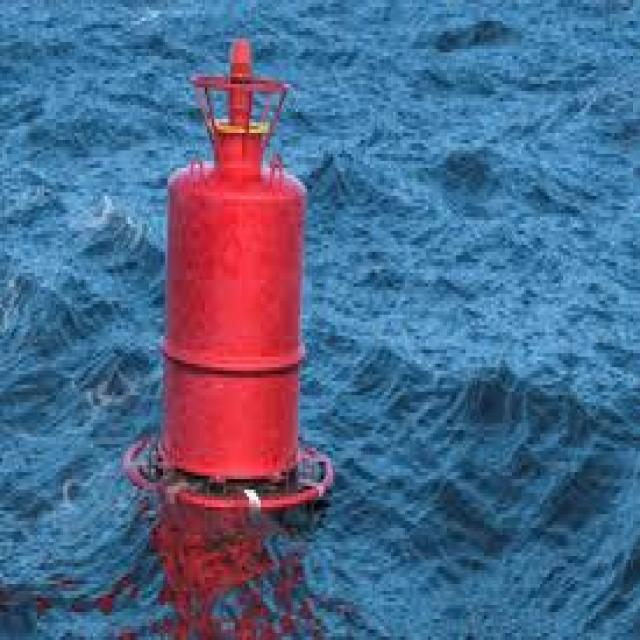buoy: (141, 14, 332, 524)
